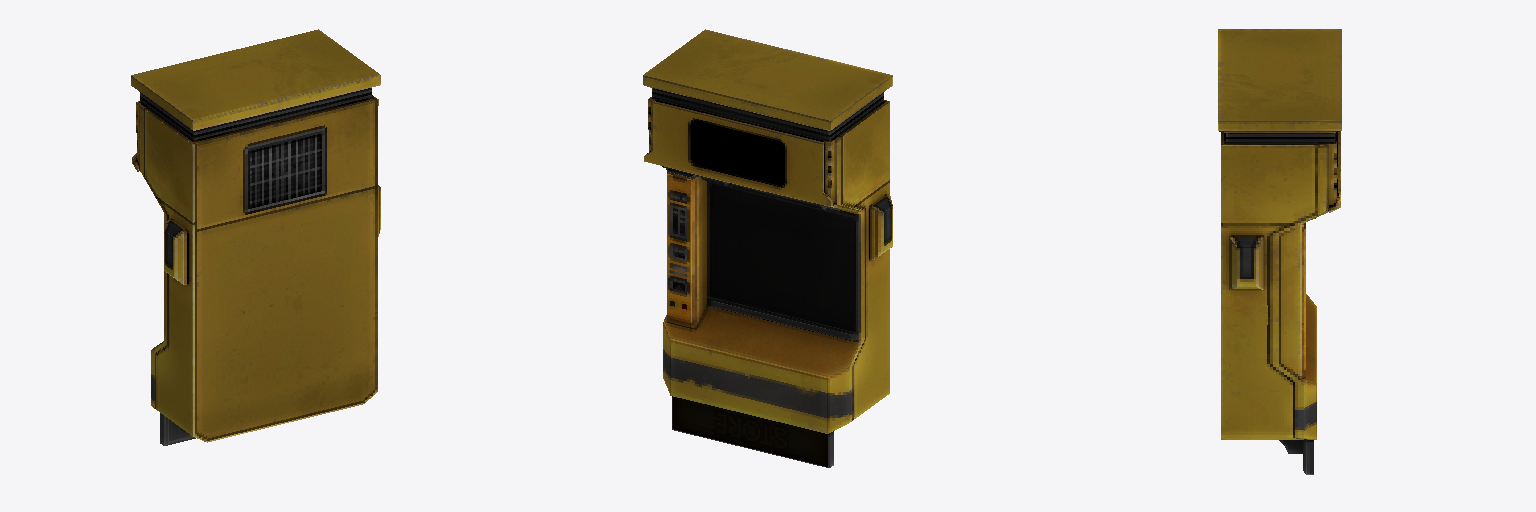
3 views of the same model, side by side, from view 1: azimuth 30°, elevation 25°; view 2: azimuth 150°, elevation 25°; view 3: azimuth 270°, elevation 25° (orthographic).
Visible parts, largest first — view 1: ShopTerminal_0; view 2: ShopTerminal_0; view 3: ShopTerminal_0.
Part boxes in pixels (x1,y1,x2,y2): ShopTerminal_0: (131,29,380,445); ShopTerminal_0: (643,29,892,467); ShopTerminal_0: (1218,29,1341,474).
Size of the model in its own units: 0.507 by 0.8456 by 0.2648.
1 materials, 1 textured.